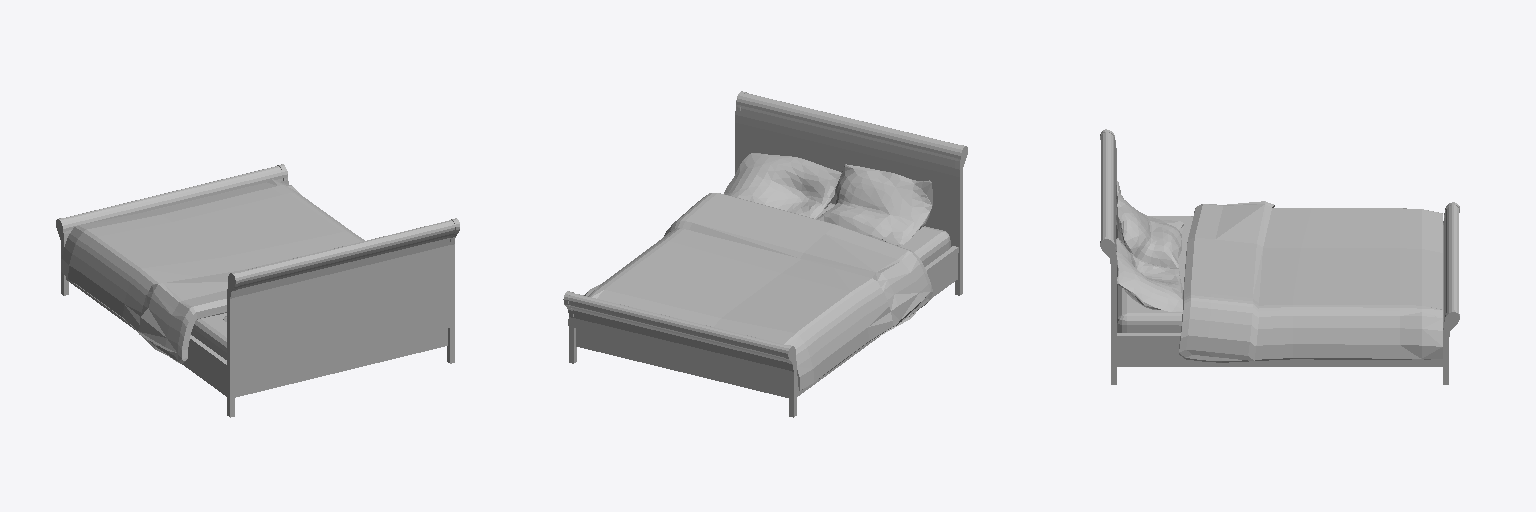
The model's file is bed01.obj.
3 views of the same model, side by side, from view 1: azimuth 30°, elevation 25°; view 2: azimuth 150°, elevation 25°; view 3: azimuth 270°, elevation 25° (orthographic).
Visible parts, largest first — view 1: mesh; view 2: mesh; view 3: mesh.
Part boxes in pixels (left/top/right/bottom): mesh: left=56, top=164, right=459, bottom=417; mesh: left=563, top=91, right=967, bottom=417; mesh: left=1100, top=129, right=1459, bottom=384.
Bounding box in the file's own units: 117 × 65.07 × 146.